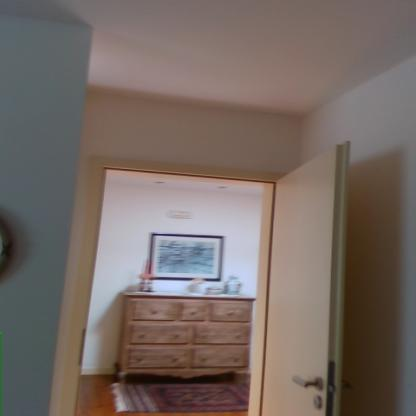open: (62, 142, 352, 416)
